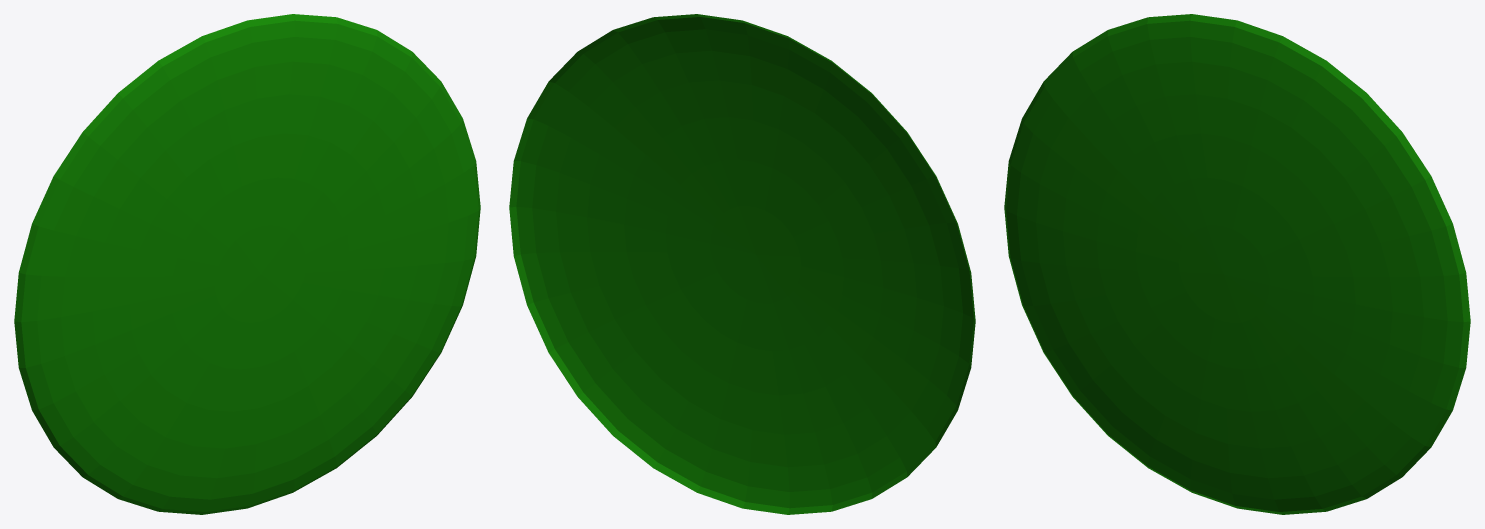
Rendered from island.glb.
3 views of the same model, side by side, from view 1: azimuth 30°, elevation 25°; view 2: azimuth 150°, elevation 25°; view 3: azimuth 330°, elevation 25° (orthographic).
Parts seen in each view (by area): view 1: Sphere.001; view 2: Sphere.001; view 3: Sphere.001.
Part boxes in pixels (box(x1,y1,x2,y2)): Sphere.001: box(14, 14, 480, 514); Sphere.001: box(509, 14, 975, 514); Sphere.001: box(1004, 14, 1470, 514).
Size of the model in its own units: 60 by 60 by 3.
